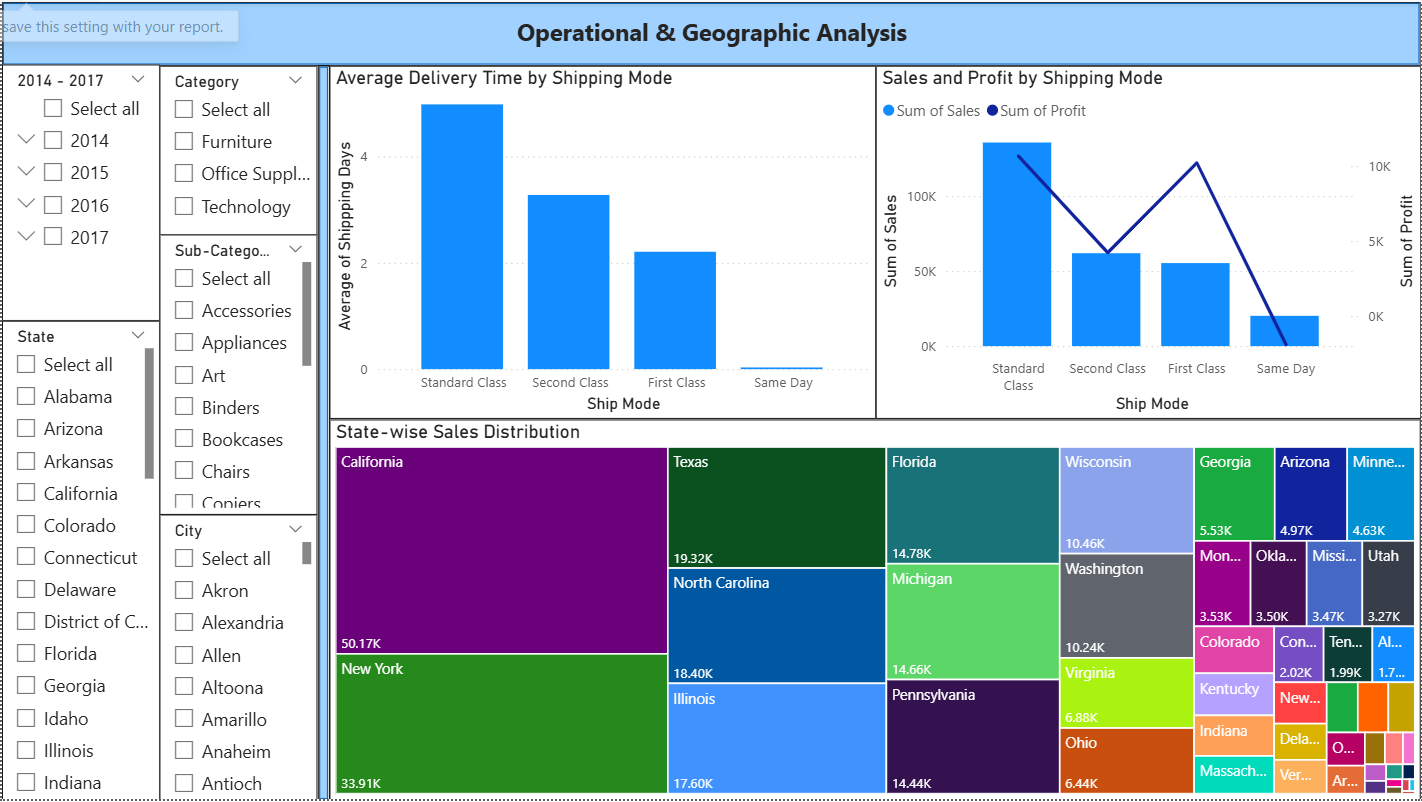

This screenshot's page, from the dashboard's own definition file:
{"tool":"powerbi","page":{"name":"Page 4","canvas":[1280,720],"ordinal":3},"visuals":[{"type":"shape","box":[0,0,1280.3,57.6],"z":0},{"type":"textbox","box":[445,6.2,390,43.8],"z":1000},{"type":"columnChart","title":"Average Delivery Time by Shipping Mode","fields":{"Y":["Avg(Sample - Superstore.Shippping Days)"],"Category":["Sample - Superstore.Ship Mode"]},"box":[295,57.5,492.5,318.8],"z":8000},{"type":"lineStackedColumnComboChart","title":"Sales and Profit by Shipping Mode","fields":{"Category":["Sample - Superstore.Ship Mode"],"Y":["Sum(Sample - Superstore.Sales)"],"Y2":["Sum(Sample - Superstore.Profit)"]},"box":[787.5,57.5,492.5,318.8],"z":9000},{"type":"treemap","title":"State-wise Sales Distribution","fields":{"Group":["Sample - Superstore.State","Sample - Superstore.City"],"Values":["Sum(Sample - Superstore.Sales)"]},"box":[295,376.2,985,343.8],"z":10000},{"type":"slicer","title":"Timeline","fields":{"Values":["Sample - Superstore.Order Date.Variation.Date Hierarchy.Year","Sample - Superstore.Order Date.Variation.Date Hierarchy.Quarter","Sample - Superstore.Order Date.Variation.Date Hierarchy.Month","Sample - Superstore.Order Date.Variation.Date Hierarchy.Day"]},"box":[0,56.2,142.5,231.2],"z":10001},{"type":"slicer","fields":{"Values":["Sample - Superstore.State"]},"box":[0,287.5,142.5,432.5],"z":10002},{"type":"slicer","fields":{"Values":["Sample - Superstore.City"]},"box":[142.5,462.5,142.5,257.5],"z":10003},{"type":"slicer","fields":{"Values":["Sample - Superstore.Category"]},"box":[142.5,57.5,142.5,152.5],"z":10004},{"type":"slicer","fields":{"Values":["Sample - Superstore.Sub-Category"]},"box":[142.5,210,142.5,252.5],"z":10005},{"type":"shape","box":[285,57.5,10,662.5],"z":10006}]}

Visuals, with their boxes on the page's 1280x720 design canvas (x1, y1, x2, y2). These are canvas units, not pixel positions in the 1422x802 screenshot, which may show the page scaled, cropped or inside an application window:
shape: rect(0, 0, 1280, 58)
textbox: rect(445, 6, 835, 50)
"Average Delivery Time by Shipping Mode" columnChart: rect(295, 58, 788, 376)
"Sales and Profit by Shipping Mode" lineStackedColumnComboChart: rect(788, 58, 1280, 376)
"State-wise Sales Distribution" treemap: rect(295, 376, 1280, 720)
"Timeline" slicer: rect(0, 56, 142, 287)
slicer - Sample - Superstore.State: rect(0, 288, 142, 720)
slicer - Sample - Superstore.City: rect(142, 462, 285, 720)
slicer - Sample - Superstore.Category: rect(142, 58, 285, 210)
slicer - Sample - Superstore.Sub-Category: rect(142, 210, 285, 462)
shape: rect(285, 58, 295, 720)
